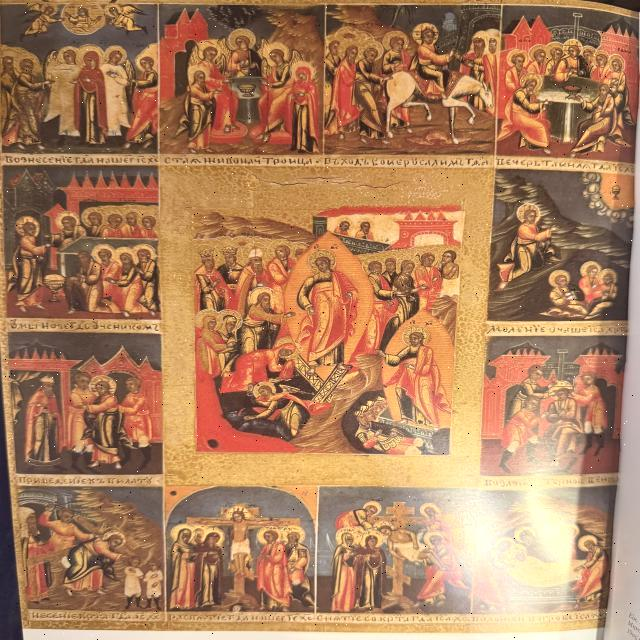angel: (44, 46, 82, 132), (106, 45, 138, 133), (174, 38, 231, 78), (11, 5, 66, 38), (105, 5, 155, 39), (261, 41, 308, 75), (219, 32, 267, 65)
aura: (410, 21, 447, 47), (261, 40, 295, 68), (99, 530, 133, 554), (14, 216, 44, 243), (90, 374, 121, 399), (76, 45, 106, 70), (228, 29, 260, 51), (309, 250, 339, 273), (258, 526, 286, 549), (402, 328, 432, 349), (198, 307, 224, 331), (517, 203, 545, 225), (194, 40, 222, 61), (221, 311, 245, 335), (284, 526, 310, 548), (113, 245, 139, 267), (89, 245, 117, 265), (249, 287, 279, 305), (174, 523, 198, 544), (107, 46, 131, 66), (254, 384, 280, 401), (57, 46, 79, 66), (57, 212, 81, 229), (228, 507, 252, 522), (550, 270, 572, 286), (583, 263, 601, 281), (598, 270, 620, 284)
basin: (41, 271, 71, 303)
chalice: (564, 84, 588, 100), (610, 184, 626, 202), (240, 85, 258, 99)
christ: (56, 525, 138, 593), (3, 211, 47, 311), (411, 23, 462, 89), (89, 375, 125, 468)
christ_crucifiction: (194, 500, 292, 602)
christ_pantocrator: (280, 226, 380, 388)
cloud: (579, 176, 636, 224)
crown: (198, 249, 219, 260), (224, 247, 238, 257)
donkey: (385, 69, 495, 141)
wing: (183, 44, 205, 66), (122, 4, 148, 20), (125, 60, 141, 86), (45, 52, 63, 72), (22, 5, 46, 19), (213, 54, 229, 72), (288, 50, 307, 62), (218, 37, 230, 54), (262, 59, 274, 76)
